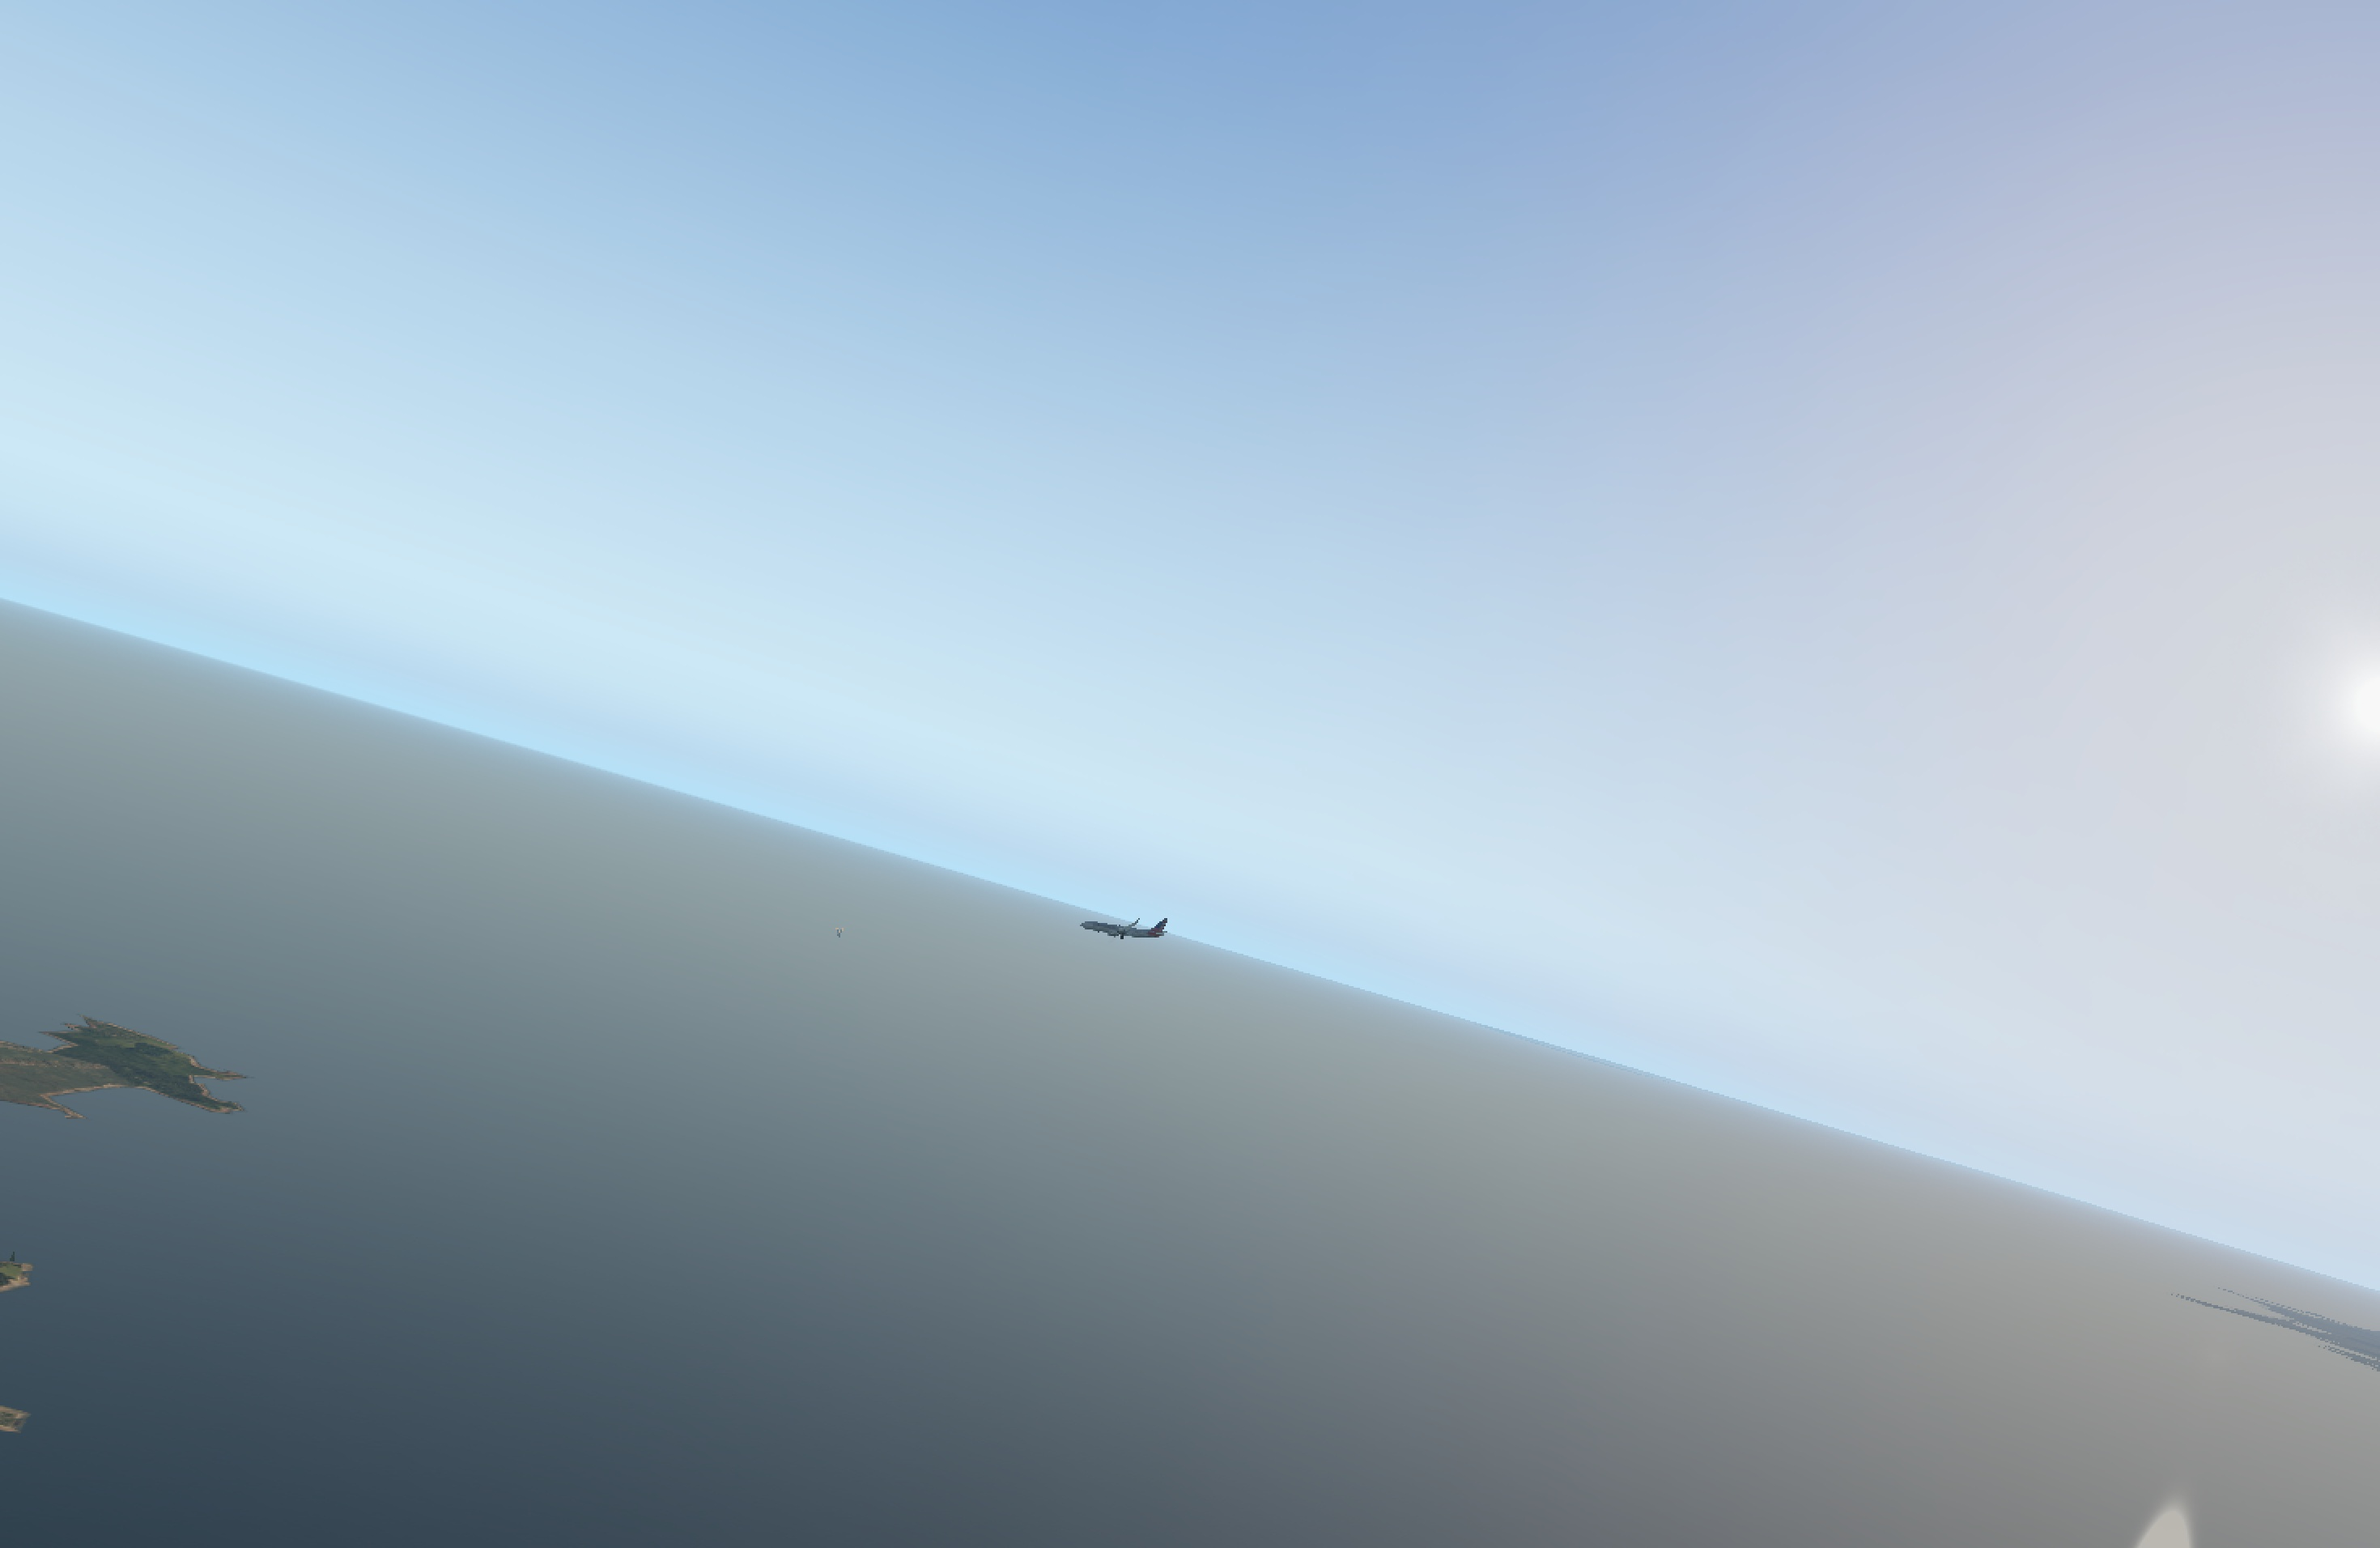aircraft: (1077, 916, 1162, 948)
